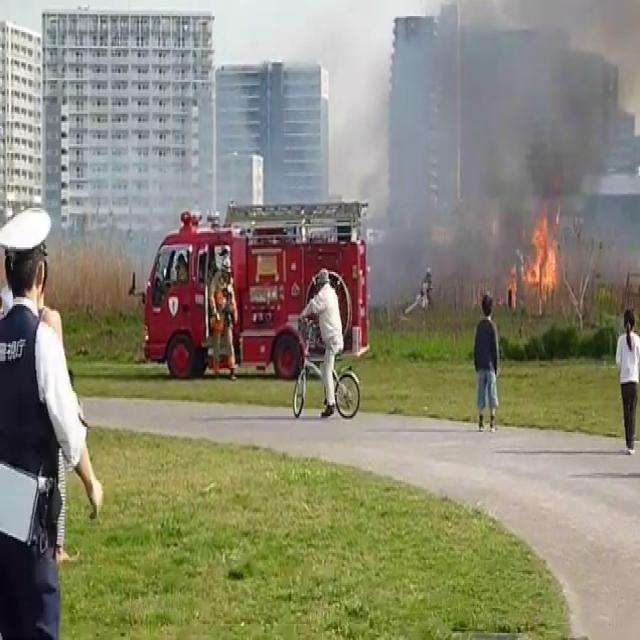Fire: (516, 203, 568, 304)
Smoke: (362, 0, 640, 292)
